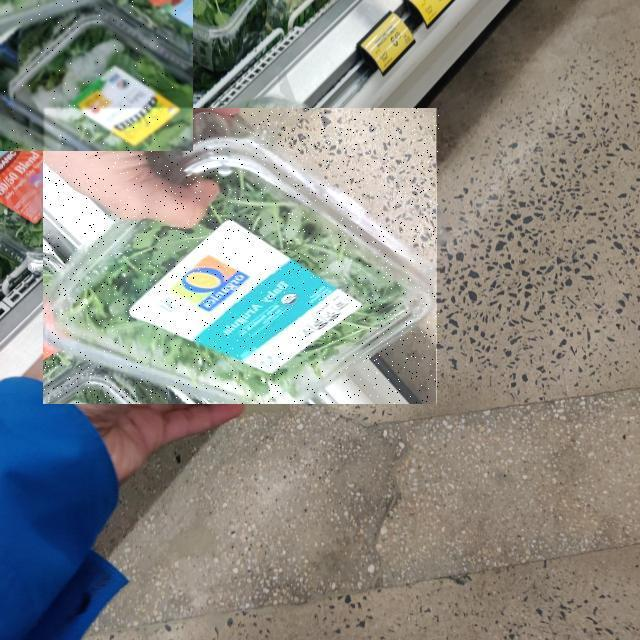Lettuce: (44, 108, 440, 404), (0, 0, 193, 151)
